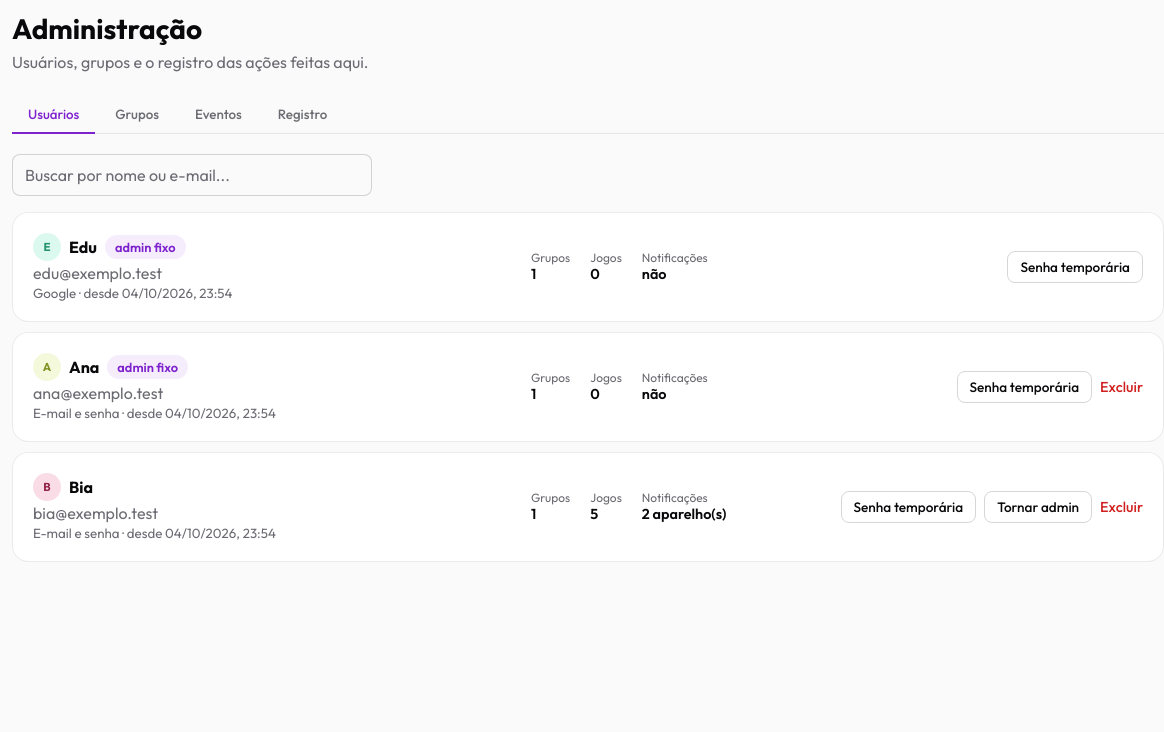
Test case: Admin — usuários › busca por nome ou e-mail
Check: the text "bia@exemplo.test" is shown, box [33,503,158,523]
Type "ana@" into the search field with placeholder "Buscar por nome ou e-mail..." at {"x": 192, "y": 175}, box [12,154,372,196]
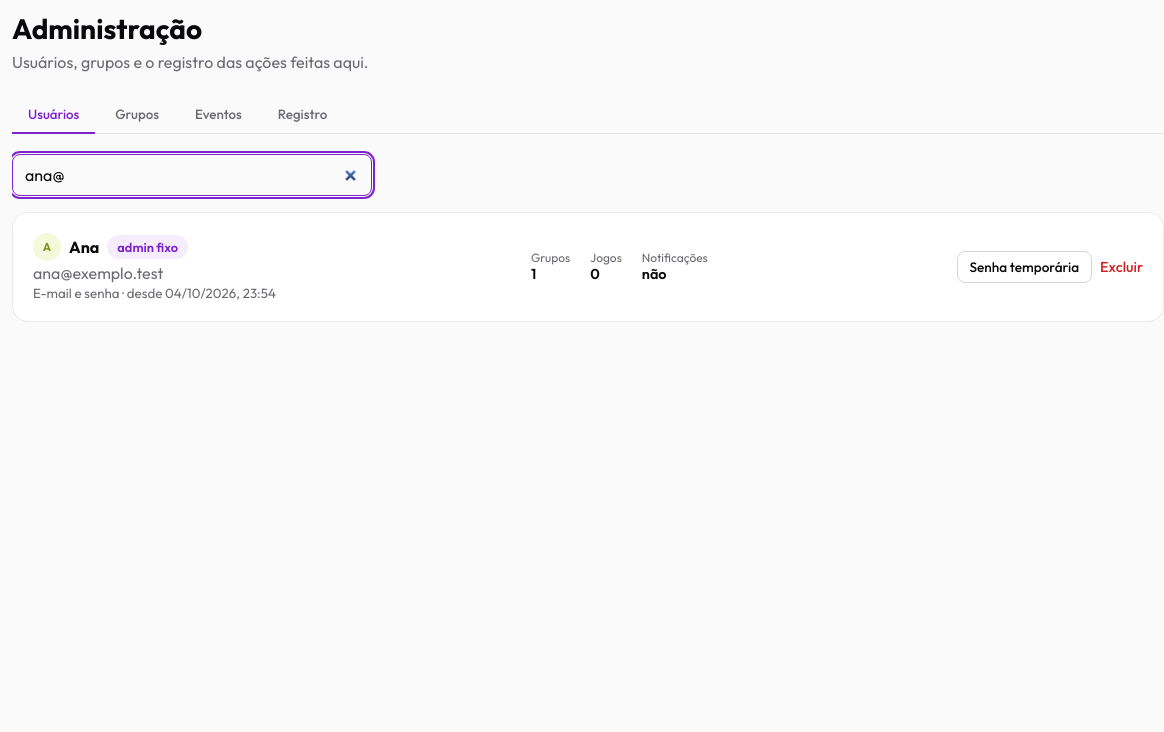
Check: the text "Ana" is shown, box [69,237,99,257]
Check: the text "Bia" is gone
